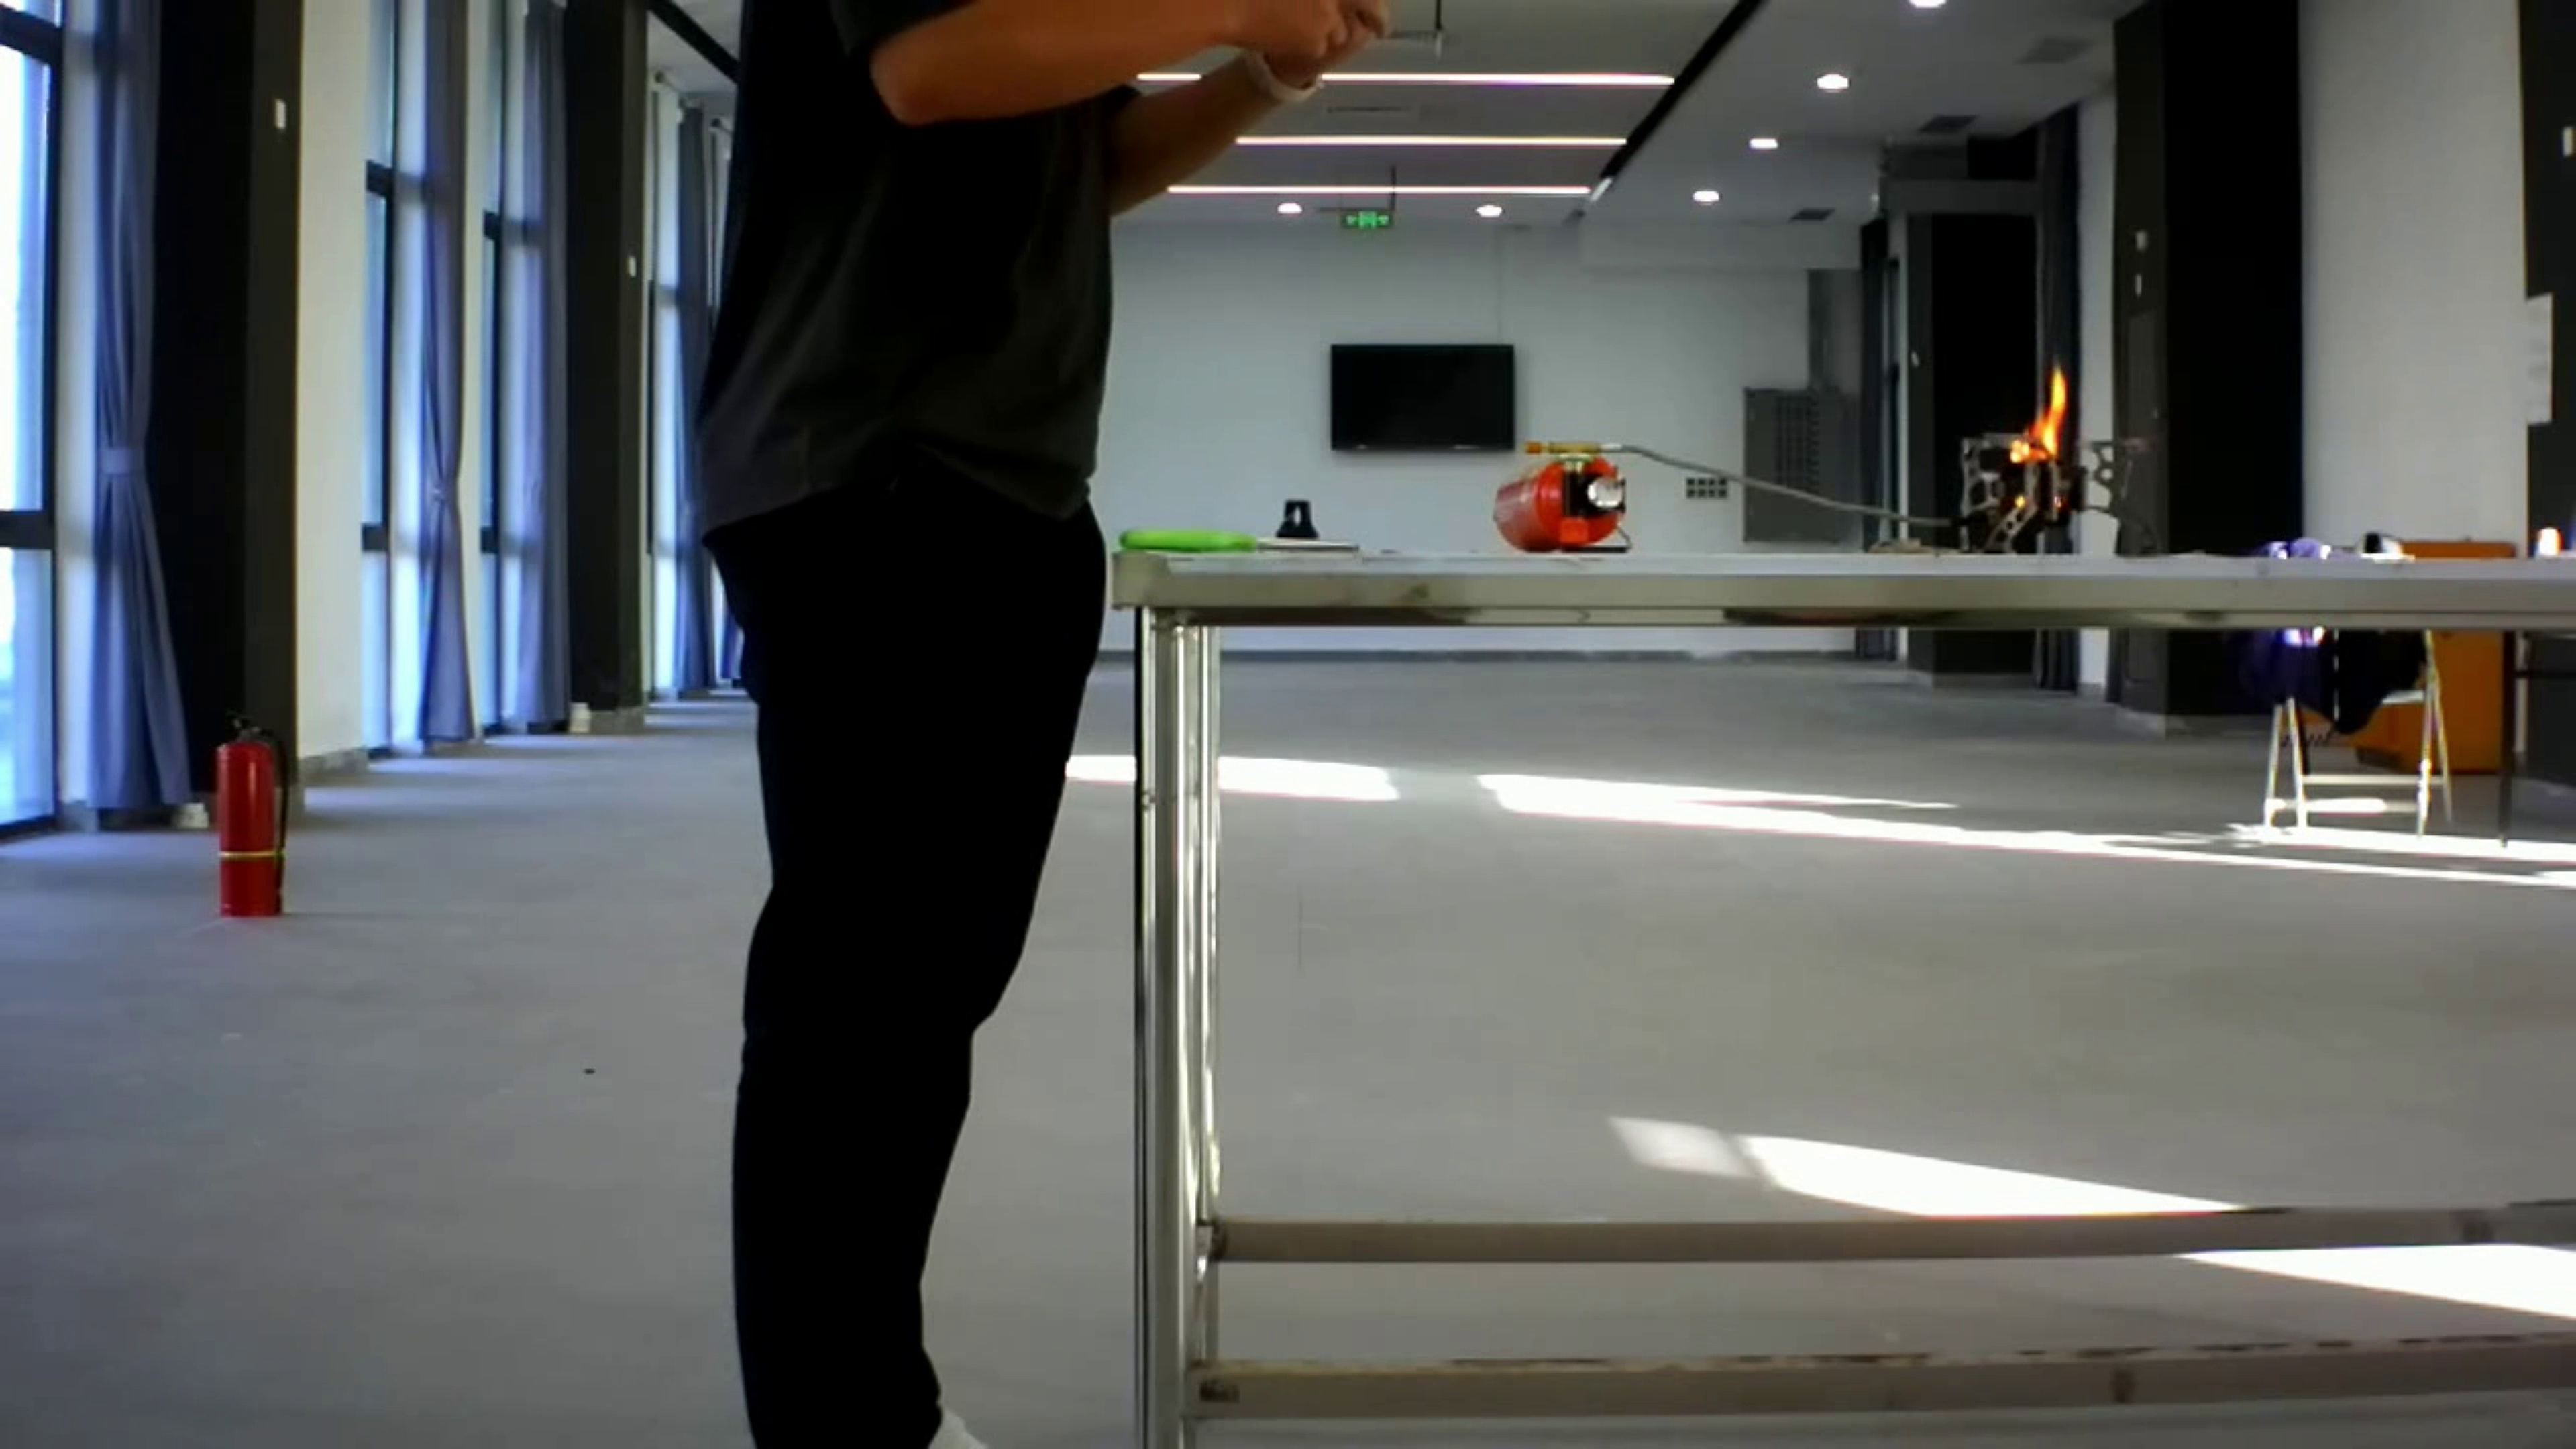Fire: (1987, 347, 2074, 483)
